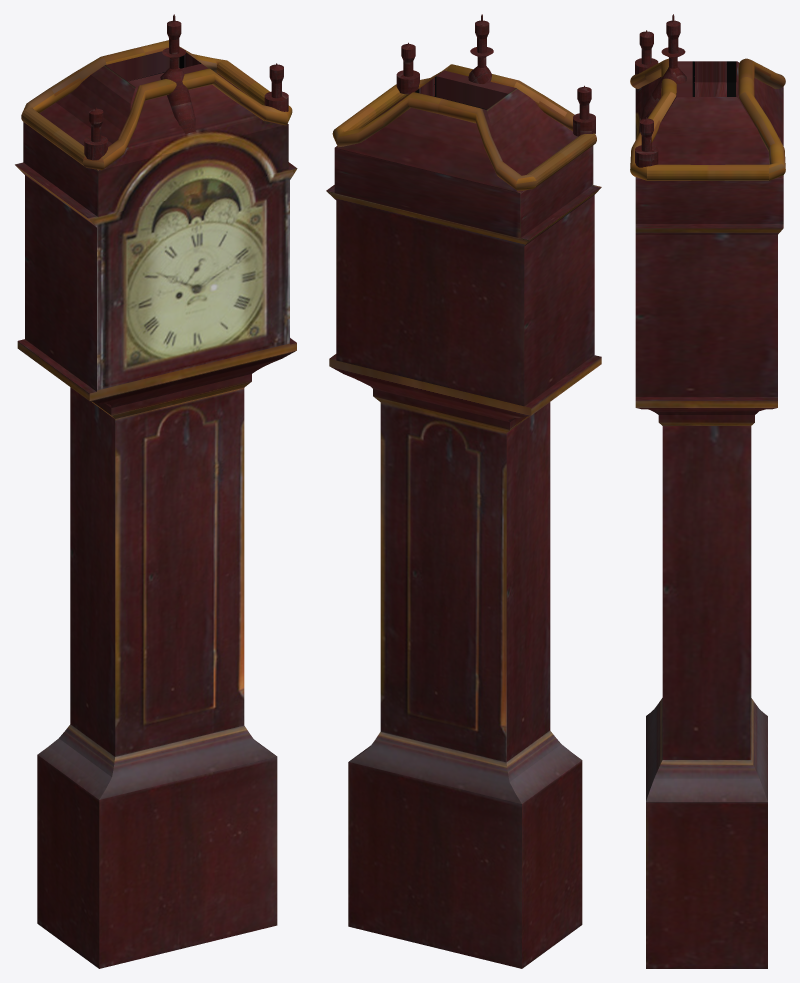
3 views of the same model, side by side, from view 1: azimuth 30°, elevation 25°; view 2: azimuth 150°, elevation 25°; view 3: azimuth 270°, elevation 25° (orthographic). The views are drawn at different scales.
Parts seen in each view (by area): view 1: Box001_01 - Default_0, Cylinder010, Cylinder006_02 - Default_0, Cylinder007_02 - Default_0, Cylinder009_02 - Default_0, Cylinder008_02 - Default_0; view 2: Box001_01 - Default_0, Cylinder010, Cylinder007_02 - Default_0, Cylinder008_02 - Default_0, Cylinder006_02 - Default_0, Cylinder009_02 - Default_0; view 3: Box001_01 - Default_0, Cylinder008_02 - Default_0, Cylinder010, Cylinder009_02 - Default_0, Cylinder007_02 - Default_0, Cylinder006_02 - Default_0.
Part boxes in pixels (x1,y1,x2,y2): Box001_01 - Default_0: (15,47,297,968); Cylinder010: (84,14,288,160); Cylinder006_02 - Default_0: (51,79,176,170); Cylinder007_02 - Default_0: (21,47,145,143); Cylinder009_02 - Default_0: (182,68,292,125); Cylinder008_02 - Default_0: (140,40,258,95); Box001_01 - Default_0: (326,70,601,968); Cylinder010: (396,14,595,136); Cylinder007_02 - Default_0: (438,99,567,190); Cylinder008_02 - Default_0: (332,92,442,147); Cylinder006_02 - Default_0: (490,74,596,165); Cylinder009_02 - Default_0: (366,64,472,118); Box001_01 - Default_0: (635,61,783,968); Cylinder008_02 - Default_0: (707,77,785,180); Cylinder010: (635,14,686,167); Cylinder009_02 - Default_0: (630,78,708,180); Cylinder007_02 - Default_0: (738,58,785,88); Cylinder006_02 - Default_0: (630,58,668,88).
Size of the model in its own units: 0.844 by 3.55 by 0.5493.
Materials: 3 (3 with a texture image).
